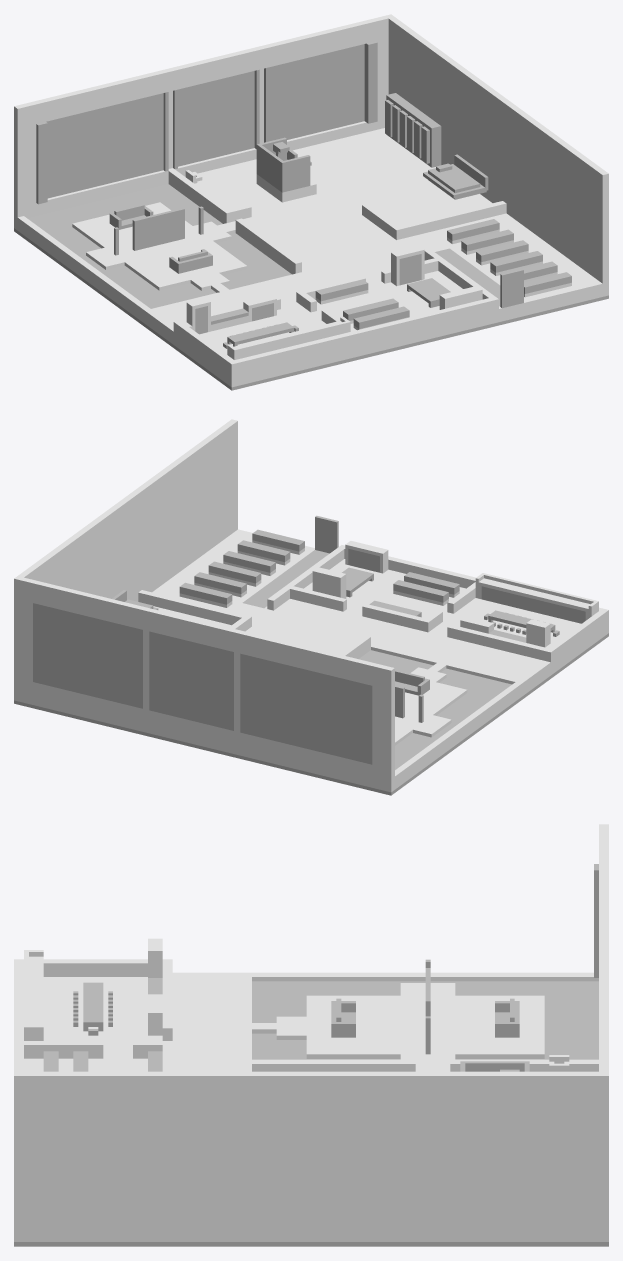
File: CasaJuneINT_001.fbx
3 views of the same model, one above another, from view 1: azimuth 30°, elevation 25°; view 2: azimuth 150°, elevation 25°; view 3: azimuth 270°, elevation 25° (orthographic). The views are drawn at different scales.
Visible parts, largest first — view 1: casaJuneINT_sep_001_18:casaJuneINT_sep_001_0, casaJuneINT_sep_001_20:casaJuneINT_sep_001_2, casaJuneINT_sep_001_22:casaJuneINT_sep_001_4, casaJuneINT_sep_001_19:casaJuneINT_sep_001_1, casaJuneINT_sep_001_23:casaJuneINT_sep_001_5, casaJuneINT_sep_001_21:casaJuneINT_sep_001_3, casaJuneINT_sep_001_24:casaJuneINT_sep_001_6, casaJuneINT_sep_001_25:casaJuneINT_sep_001_7; view 2: casaJuneINT_sep_001_18:casaJuneINT_sep_001_0, casaJuneINT_sep_001_20:casaJuneINT_sep_001_2, casaJuneINT_sep_001_22:casaJuneINT_sep_001_4, casaJuneINT_sep_001_19:casaJuneINT_sep_001_1, casaJuneINT_sep_001_23:casaJuneINT_sep_001_5, casaJuneINT_sep_001_21:casaJuneINT_sep_001_3, casaJuneINT_sep_001_24:casaJuneINT_sep_001_6, casaJuneINT_sep_001_25:casaJuneINT_sep_001_7; view 3: casaJuneINT_sep_001_18:casaJuneINT_sep_001_0, casaJuneINT_sep_001_19:casaJuneINT_sep_001_1, casaJuneINT_sep_001_23:casaJuneINT_sep_001_5, casaJuneINT_sep_001_20:casaJuneINT_sep_001_2, casaJuneINT_sep_001_22:casaJuneINT_sep_001_4, casaJuneINT_sep_001_21:casaJuneINT_sep_001_3.
Part boxes in pixels (x1,y1,x2,y2): casaJuneINT_sep_001_18:casaJuneINT_sep_001_0: (14,14,608,387); casaJuneINT_sep_001_20:casaJuneINT_sep_001_2: (46,44,450,346); casaJuneINT_sep_001_22:casaJuneINT_sep_001_4: (114,93,571,334); casaJuneINT_sep_001_19:casaJuneINT_sep_001_1: (27,184,291,308); casaJuneINT_sep_001_23:casaJuneINT_sep_001_5: (14,149,608,390); casaJuneINT_sep_001_21:casaJuneINT_sep_001_3: (36,41,377,204); casaJuneINT_sep_001_24:casaJuneINT_sep_001_6: (201,226,571,329); casaJuneINT_sep_001_25:casaJuneINT_sep_001_7: (500,269,523,308); casaJuneINT_sep_001_18:casaJuneINT_sep_001_0: (14,419,608,792); casaJuneINT_sep_001_20:casaJuneINT_sep_001_2: (42,567,555,762); casaJuneINT_sep_001_22:casaJuneINT_sep_001_4: (112,529,585,722); casaJuneINT_sep_001_19:casaJuneINT_sep_001_1: (359,650,511,769); casaJuneINT_sep_001_23:casaJuneINT_sep_001_5: (14,599,608,795); casaJuneINT_sep_001_21:casaJuneINT_sep_001_3: (33,603,372,764); casaJuneINT_sep_001_24:casaJuneINT_sep_001_6: (179,537,582,620); casaJuneINT_sep_001_25:casaJuneINT_sep_001_7: (315,515,338,553); casaJuneINT_sep_001_18:casaJuneINT_sep_001_0: (14,824,608,1241); casaJuneINT_sep_001_19:casaJuneINT_sep_001_1: (252,981,598,1059); casaJuneINT_sep_001_23:casaJuneINT_sep_001_5: (14,991,608,1246); casaJuneINT_sep_001_20:casaJuneINT_sep_001_2: (83,968,529,1071); casaJuneINT_sep_001_22:casaJuneINT_sep_001_4: (43,959,519,1071); casaJuneINT_sep_001_21:casaJuneINT_sep_001_3: (594,864,598,977).
Bounding box in the file's own units: 120 × 38 × 120.
